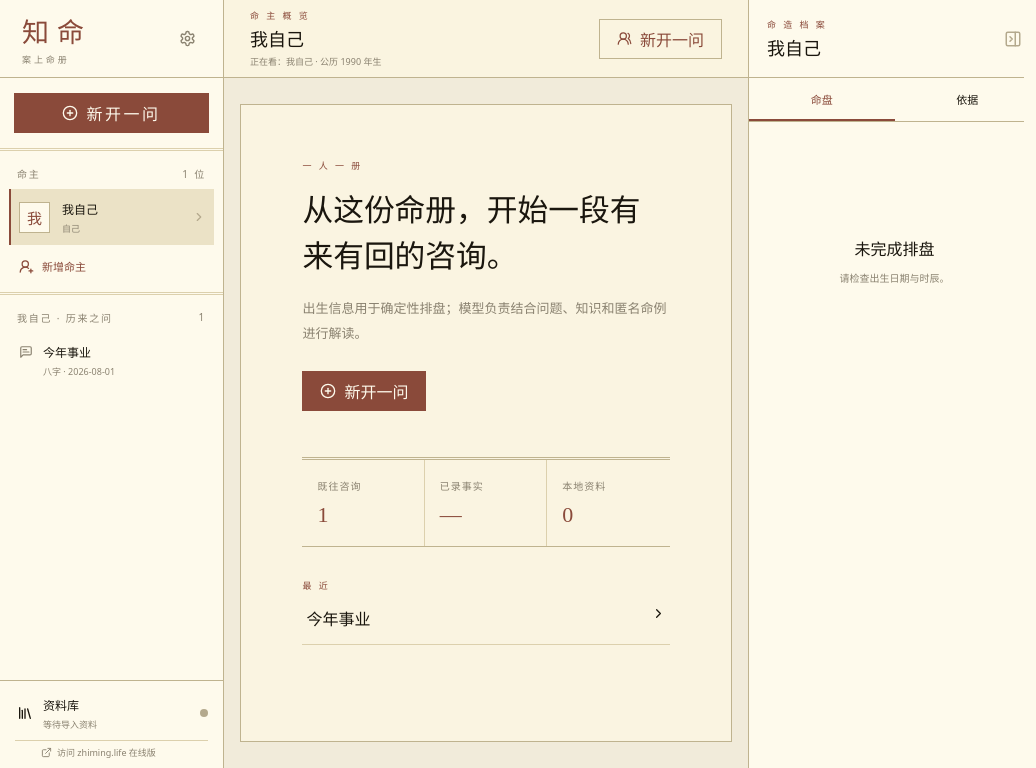
Test: App › loads consultation history and shows retrieved evidence
Click the button "今年事业 八字 · 2026-08-01": (112, 360) top-left (9, 333), bottom-right (214, 388)
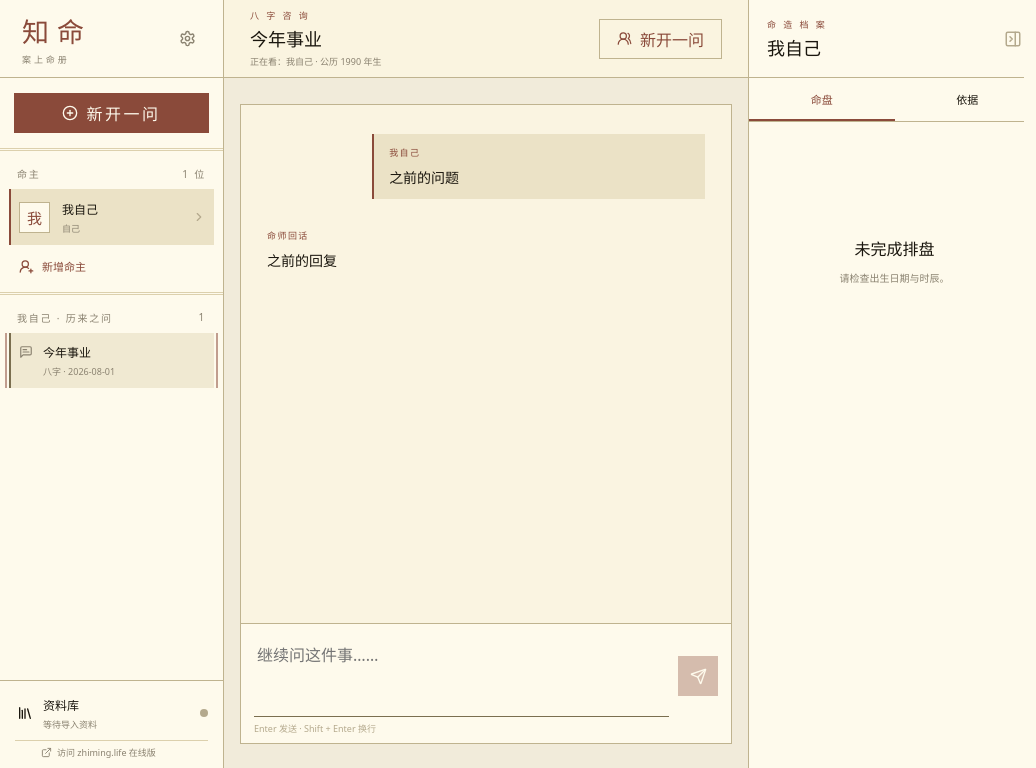
Expected: the text "之前的回复" is shown, top-left (267, 254), bottom-right (337, 269)
In the text box with placeholder "继续问这件事……": (462, 676) top-left (254, 635), bottom-right (669, 717), type "继续分析"
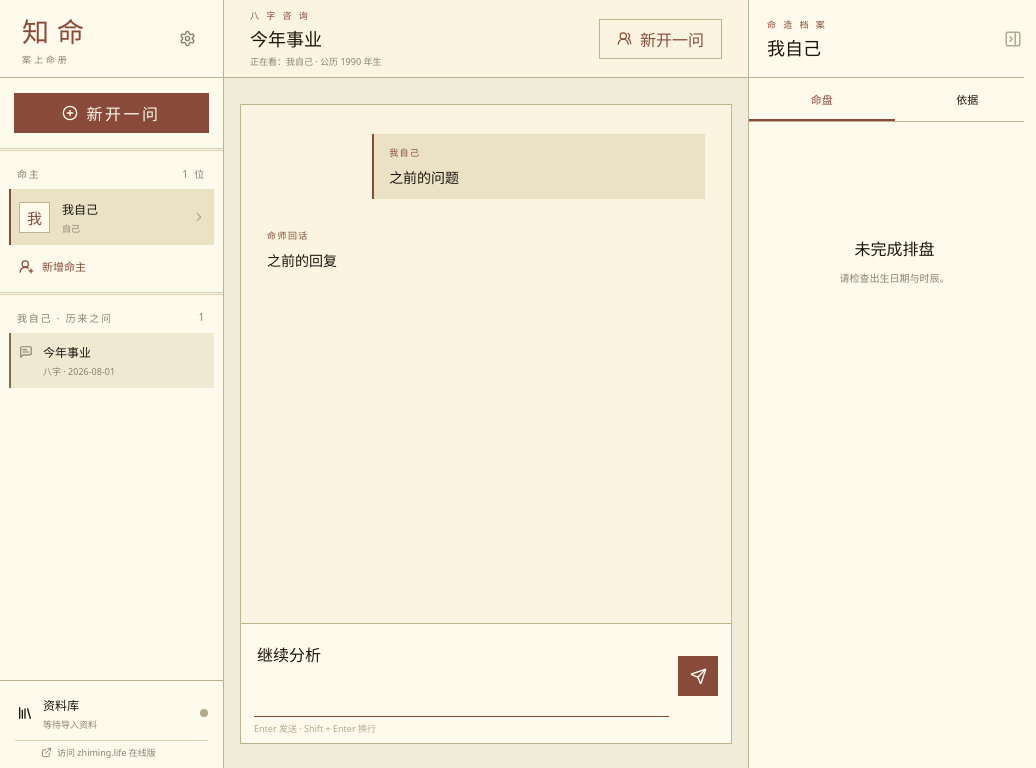
Click the button named "发送": (698, 676) top-left (678, 656), bottom-right (718, 696)
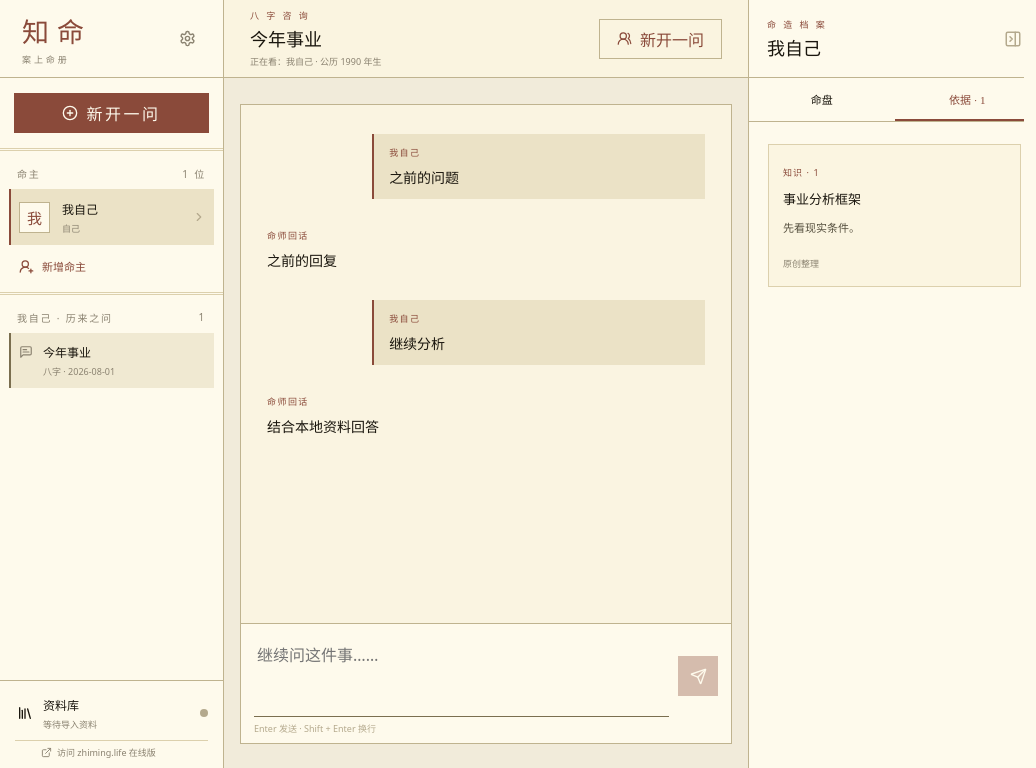
Expected: the text "结合本地资料回答" is shown, top-left (267, 420), bottom-right (379, 435)
Expected: the heading "事业分析框架" is shown, top-left (783, 192), bottom-right (861, 207)
Expected: the text "原创整理" is shown, top-left (783, 257), bottom-right (819, 270)
